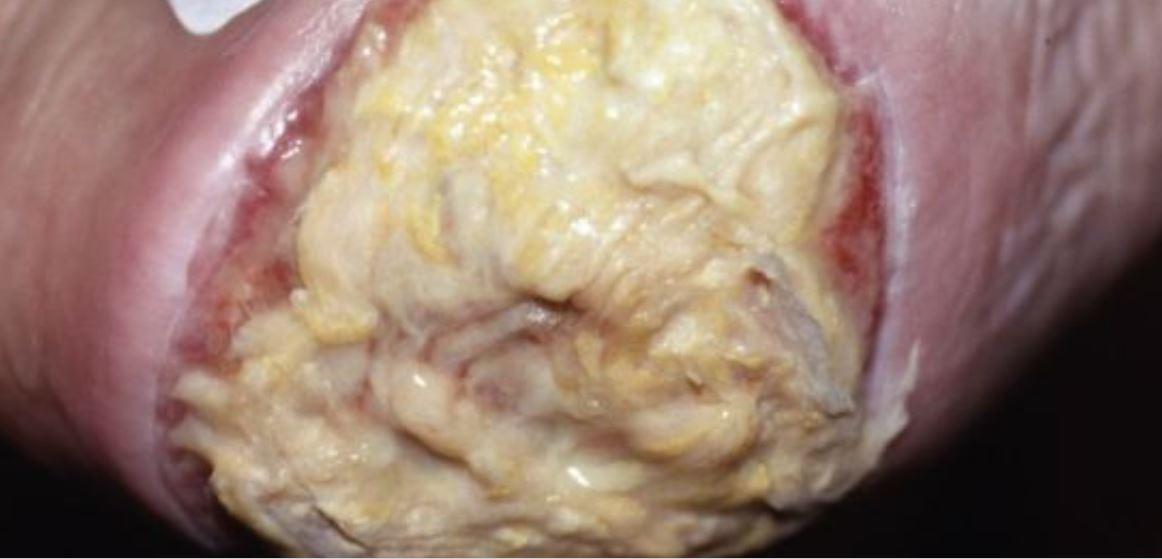Stage3: (133, 12, 956, 552)
